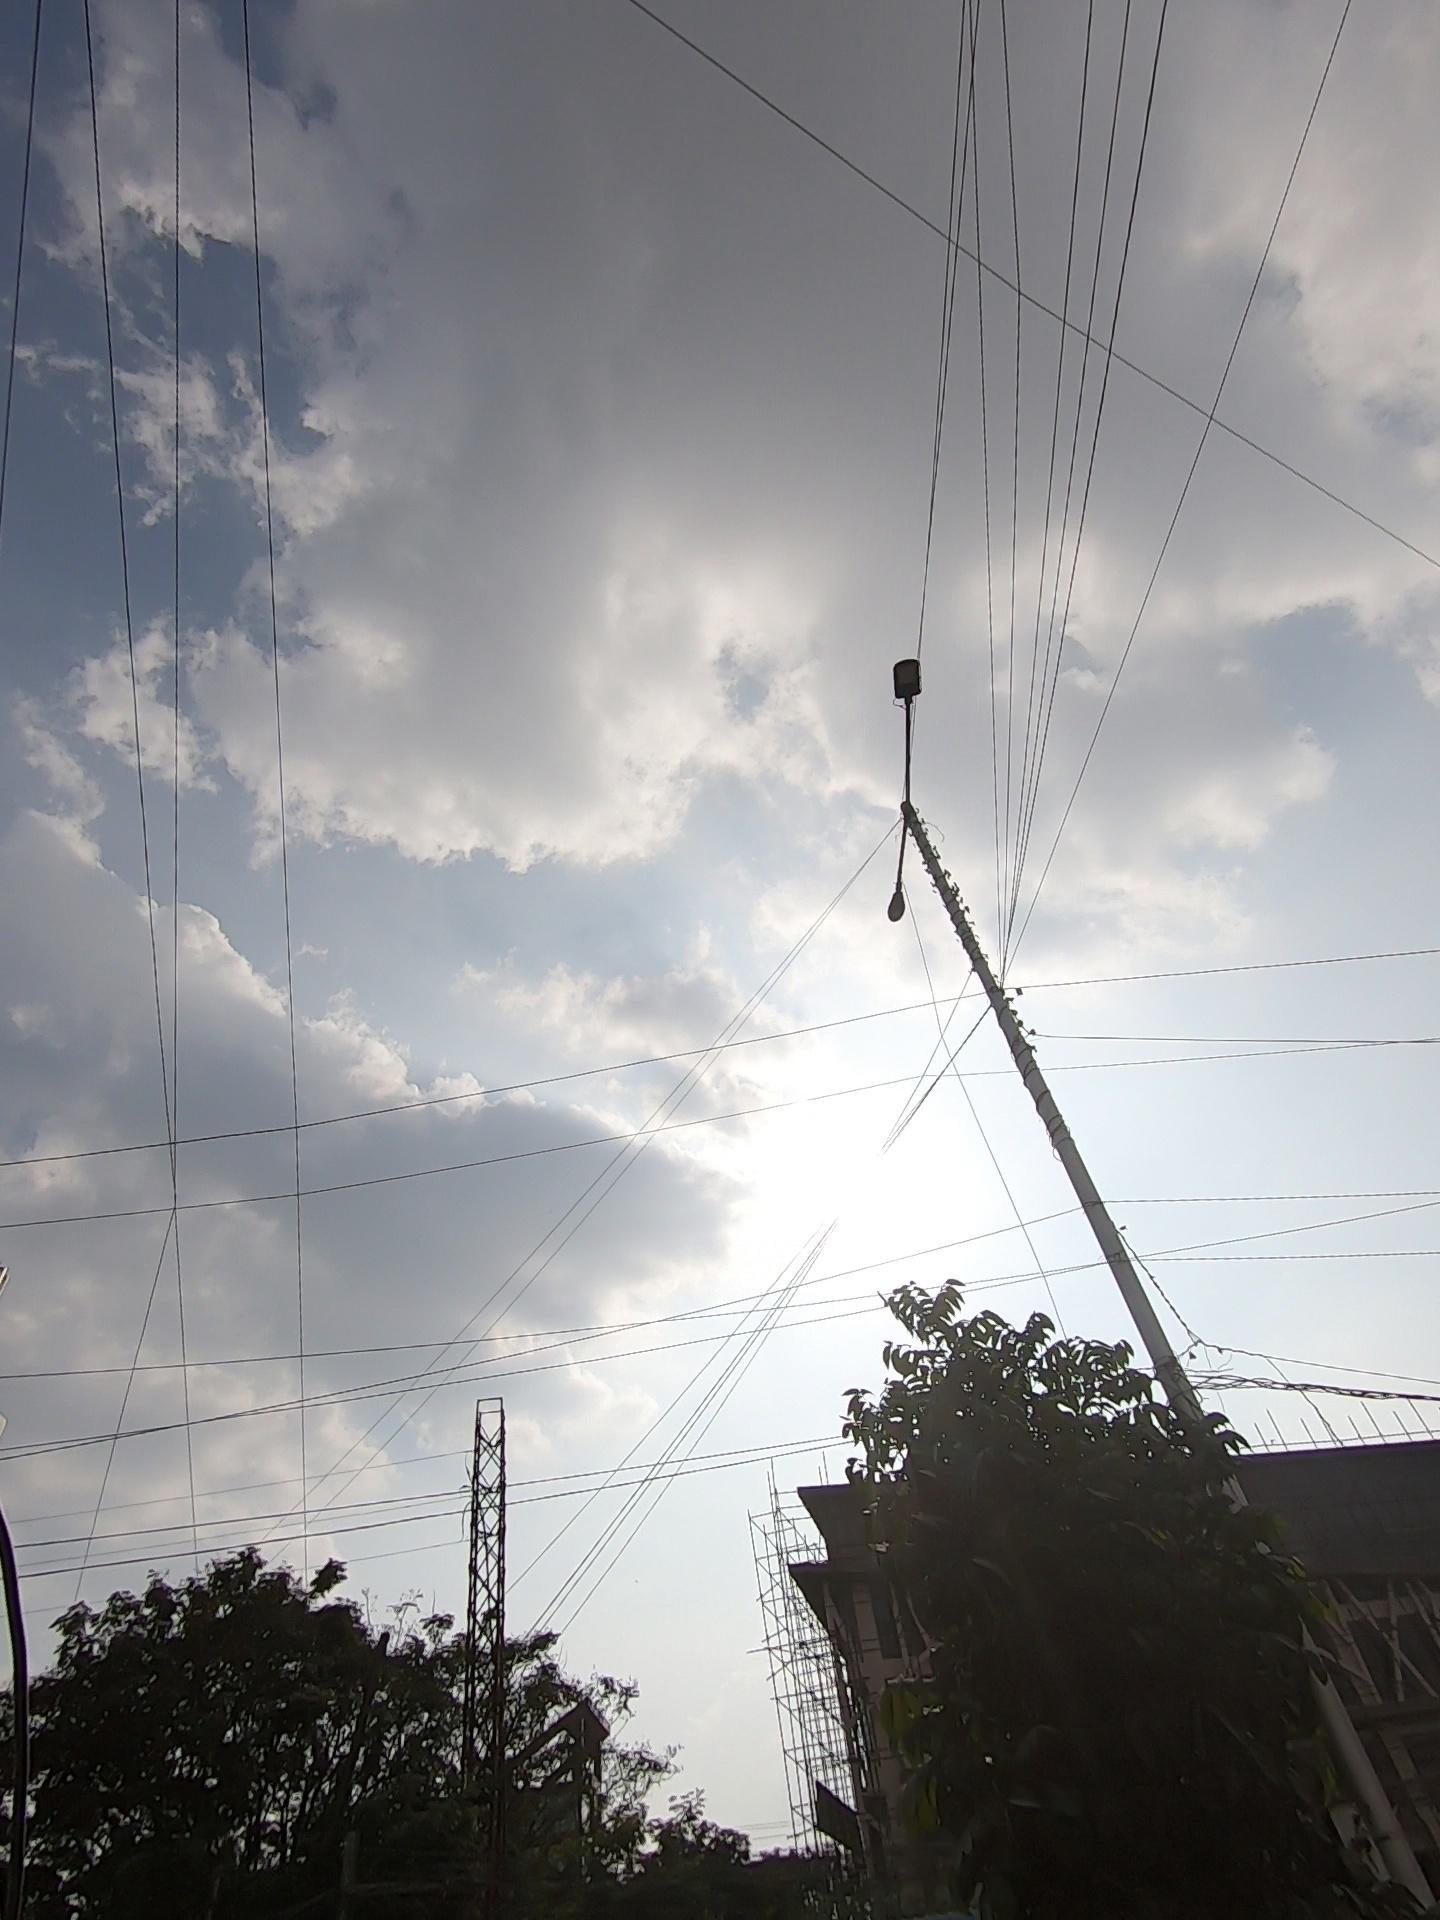off: (835, 485, 932, 1011)
